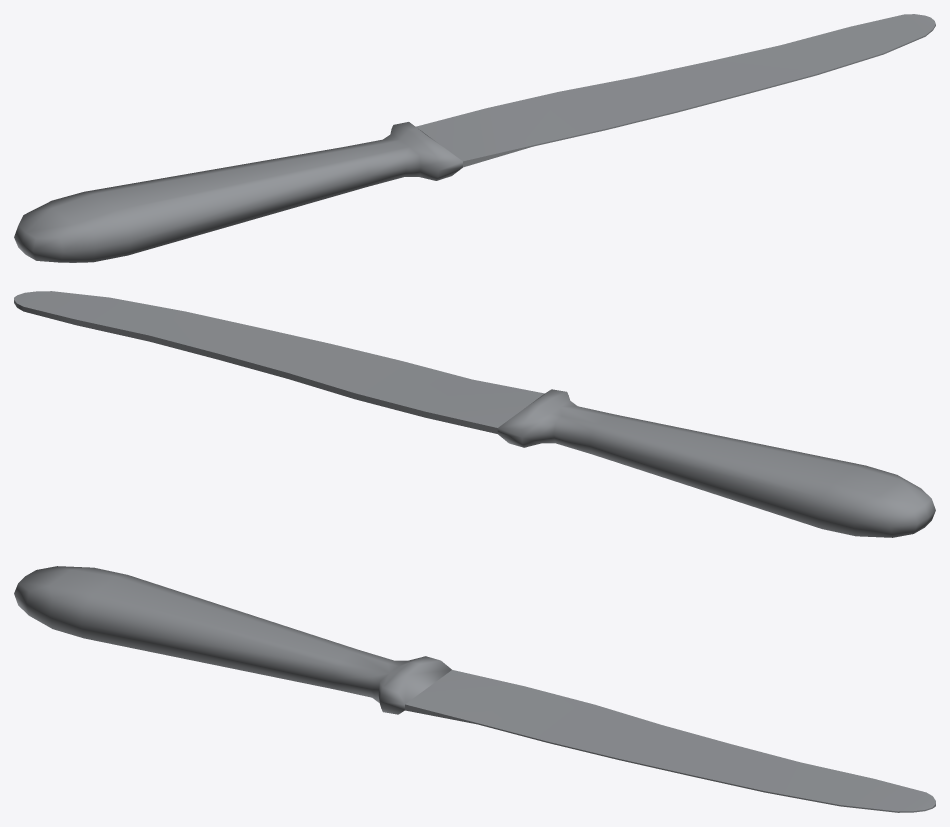
Rendered from Knife03.FBX.
3 views of the same model, one above another, from view 1: azimuth 30°, elevation 25°; view 2: azimuth 150°, elevation 25°; view 3: azimuth 330°, elevation 25° (orthographic).
Visible parts, largest first — view 1: Knife03_LOD0; view 2: Knife03_LOD0; view 3: Knife03_LOD0.
Part boxes in pixels (<box>): Knife03_LOD0: <box>14,14,935,262</box>; Knife03_LOD0: <box>14,291,935,537</box>; Knife03_LOD0: <box>14,566,935,812</box>.
Bounding box in the file's own units: 21.86 × 2.22 × 1.01.
